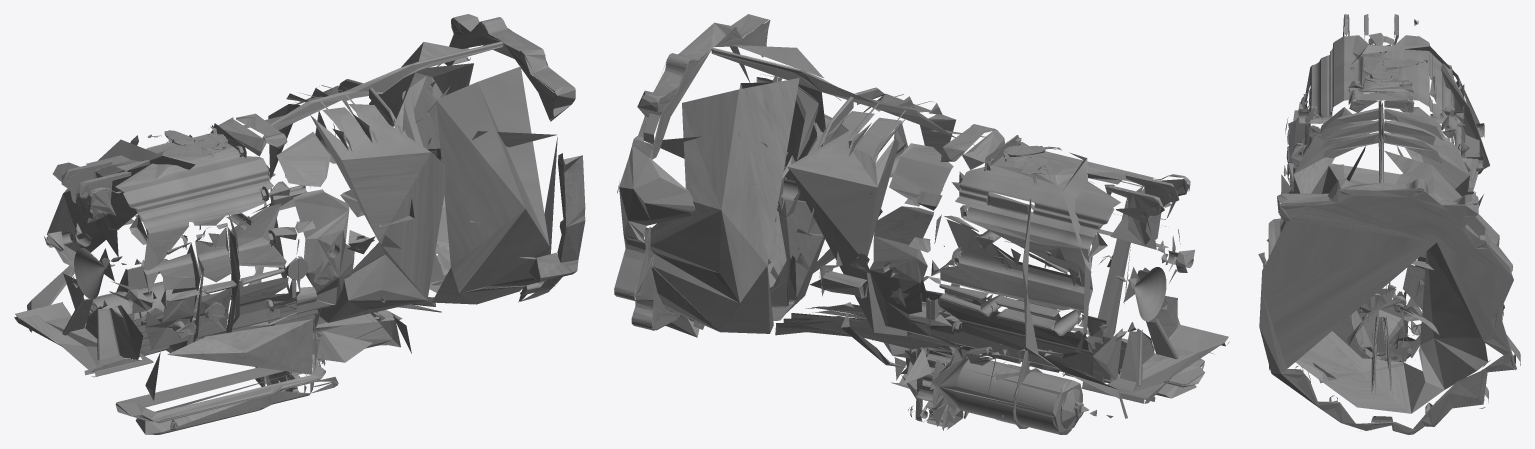
The model's file is drivetrain_transmission_manual_a01.glb.
3 renders of one model, left to right at view 1: azimuth 30°, elevation 25°; view 2: azimuth 150°, elevation 25°; view 3: azimuth 270°, elevation 25°, orthographic. The views are drawn at different scales.
Visible parts, largest first — view 1: geometry_0; view 2: geometry_0; view 3: geometry_0.
Part boxes in pixels (box(x1,y1,x2,y2)): geometry_0: box(14, 14, 585, 434); geometry_0: box(614, 14, 1229, 434); geometry_0: box(1258, 14, 1520, 434).
Size of the model in its own units: 0.42 by 0.264 by 0.2143.
Materials: 1 (1 with a texture image).
